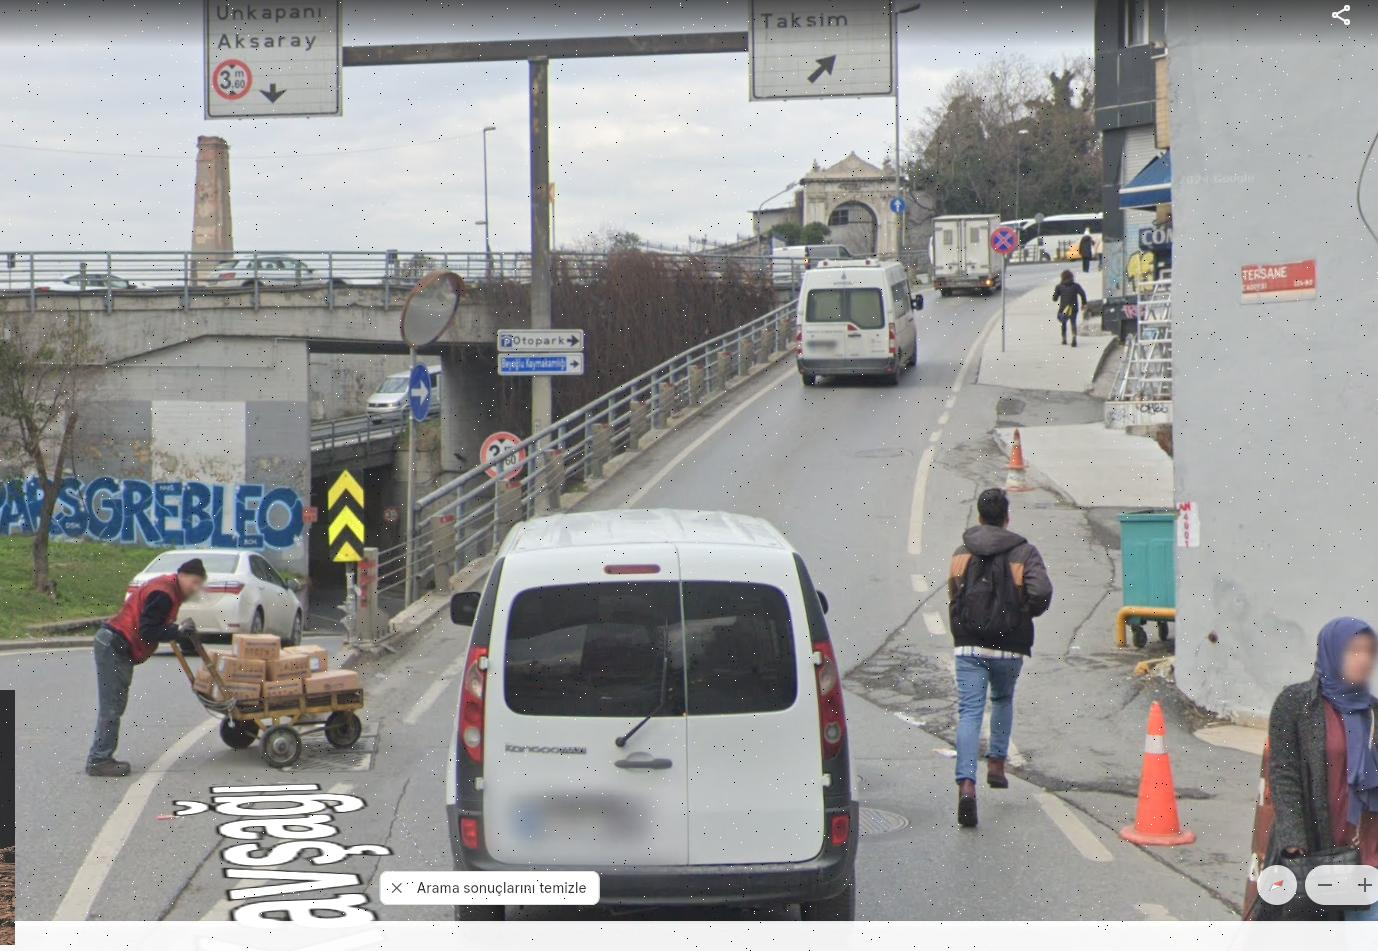turnright: (410, 366, 434, 417)
